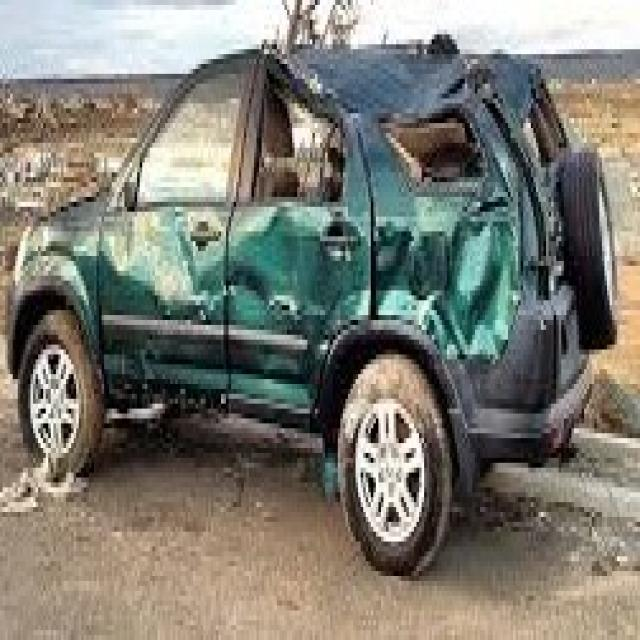severe: (228, 18, 605, 453)
